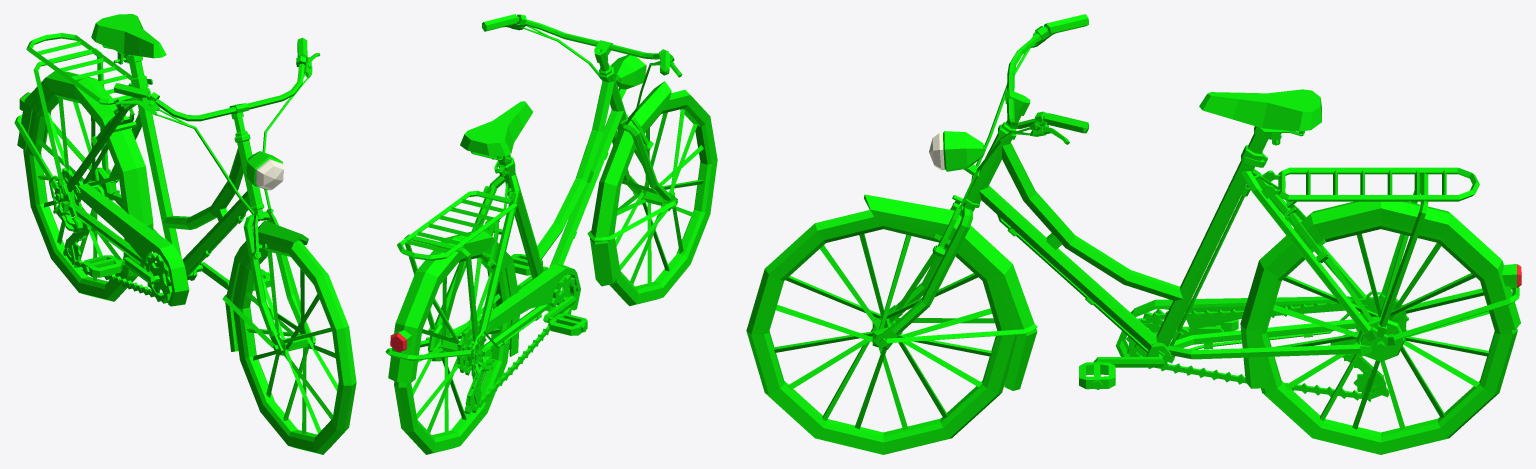
Rendered from SM_Bike_Lady_Modern.fbx.
3 renders of one model, left to right at view 1: azimuth 30°, elevation 25°; view 2: azimuth 150°, elevation 25°; view 3: azimuth 270°, elevation 25°, orthographic. The views are drawn at different scales.
Visible parts, largest first — view 1: SM_Bike_Lady_Modern_Base, SM_Bike_Lady_Modern_Wheel_F, SM_Bike_Lady_Modern_Handlebars, SM_Bike_Lady_Modern_Wheel_B, SM_Bike_Lady_Modern_Crank_Pedal_R, SM_Bike_Lady_Modern_Crank_Arm_R; view 2: SM_Bike_Lady_Modern_Base, SM_Bike_Lady_Modern_Wheel_F, SM_Bike_Lady_Modern_Handlebars, SM_Bike_Lady_Modern_Wheel_B, SM_Bike_Lady_Modern_Crank_Pedal_R; view 3: SM_Bike_Lady_Modern_Base, SM_Bike_Lady_Modern_Wheel_F, SM_Bike_Lady_Modern_Wheel_B, SM_Bike_Lady_Modern_Handlebars, SM_Bike_Lady_Modern_Crank_Pedal_L.
Boxes of the visible parts, box(x1,y1,x2,y2) form: SM_Bike_Lady_Modern_Base: box(14, 14, 283, 306); SM_Bike_Lady_Modern_Wheel_F: box(232, 238, 356, 454); SM_Bike_Lady_Modern_Handlebars: box(114, 37, 320, 355); SM_Bike_Lady_Modern_Wheel_B: box(23, 90, 137, 301); SM_Bike_Lady_Modern_Crank_Pedal_R: box(82, 255, 124, 277); SM_Bike_Lady_Modern_Crank_Arm_R: box(123, 257, 155, 284); SM_Bike_Lady_Modern_Base: box(385, 54, 646, 414); SM_Bike_Lady_Modern_Wheel_F: box(609, 89, 717, 306); SM_Bike_Lady_Modern_Handlebars: box(482, 14, 682, 286); SM_Bike_Lady_Modern_Wheel_B: box(394, 249, 511, 454); SM_Bike_Lady_Modern_Crank_Pedal_R: box(548, 313, 587, 335); SM_Bike_Lady_Modern_Base: box(929, 89, 1521, 401); SM_Bike_Lady_Modern_Wheel_F: box(746, 210, 1016, 454); SM_Bike_Lady_Modern_Wheel_B: box(1261, 222, 1517, 454); SM_Bike_Lady_Modern_Handlebars: box(864, 14, 1088, 390); SM_Bike_Lady_Modern_Crank_Pedal_L: box(1079, 361, 1115, 389).
Size of the model in its own units: 0.749 by 1.14 by 2.07.
